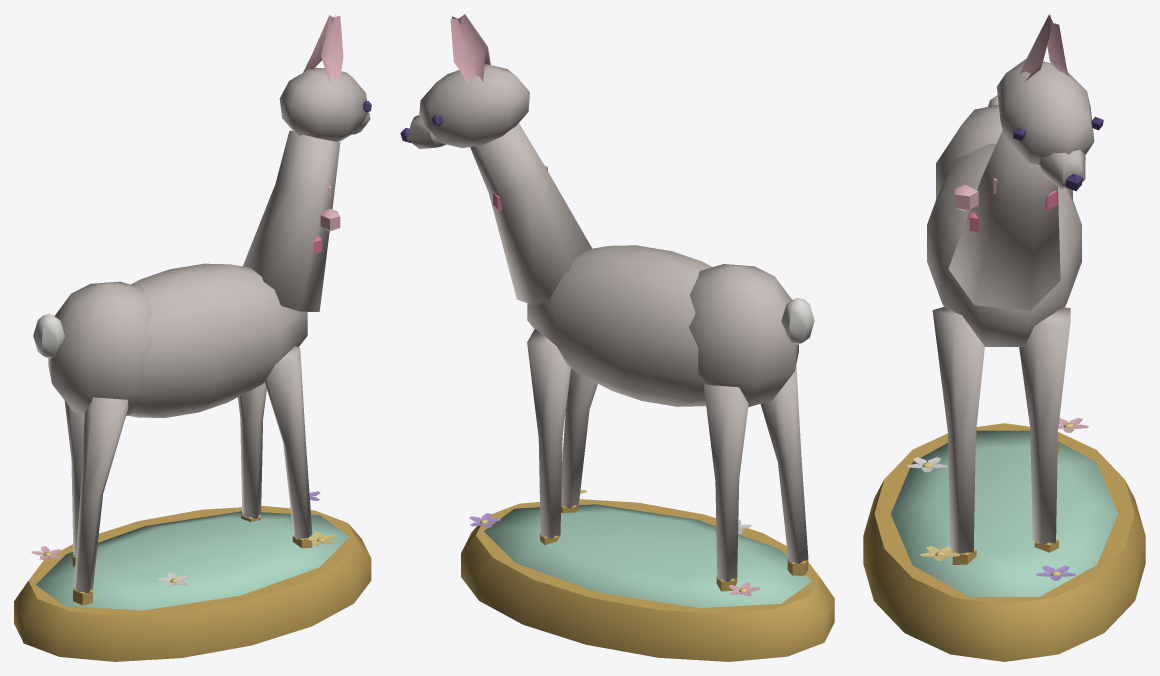
File: figurine_deer.glb
3 views of the same model, side by side, from view 1: azimuth 30°, elevation 25°; view 2: azimuth 150°, elevation 25°; view 3: azimuth 270°, elevation 25° (orthographic). The views are drawn at different scales.
Visible parts, largest first — view 1: figurine_deer; view 2: figurine_deer; view 3: figurine_deer.
Boxes of the visible parts, x1,y1,x2,y2 form: figurine_deer: (14, 15, 371, 661); figurine_deer: (400, 14, 834, 661); figurine_deer: (863, 14, 1145, 661).
Size of what is drawn, in the model's own units: 0.22 by 0.3 by 0.12.
